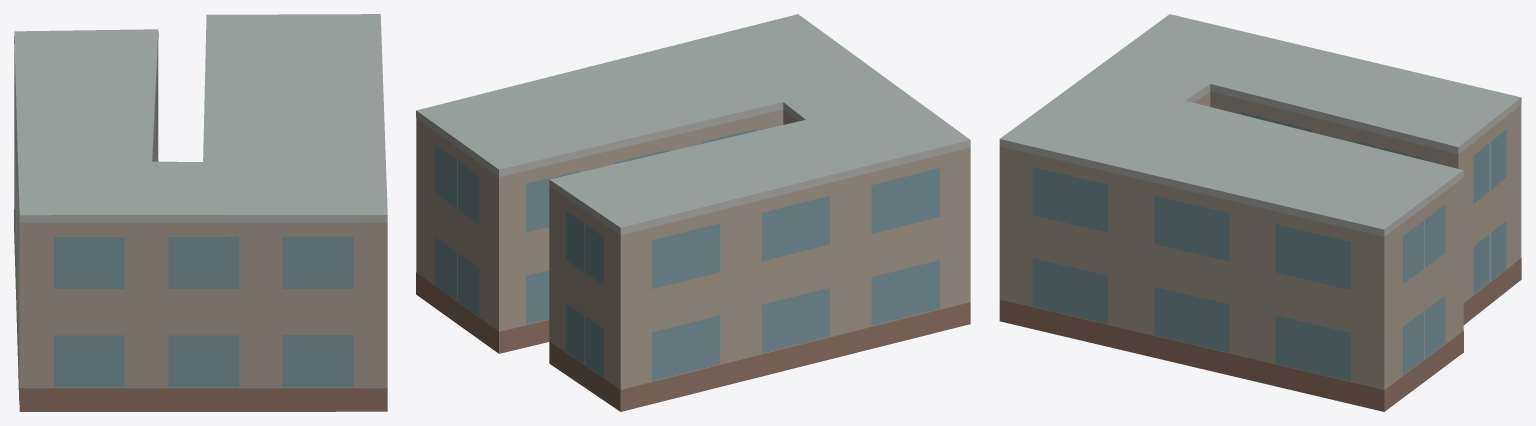
Rendered from survey-upis-32753765.glb.
3 renders of one model, left to right at view 1: azimuth 30°, elevation 25°; view 2: azimuth 150°, elevation 25°; view 3: azimuth 270°, elevation 25°, orthographic. The views are drawn at different scales.
Visible parts, largest first — view 1: survey-upis-32753765.tmp; view 2: survey-upis-32753765.tmp; view 3: survey-upis-32753765.tmp.
Boxes of the visible parts, x1,y1,x2,y2 form: survey-upis-32753765.tmp: (14, 14, 387, 411); survey-upis-32753765.tmp: (416, 14, 970, 411); survey-upis-32753765.tmp: (999, 14, 1521, 411).
Size of the model in its own units: 15.48 by 6.1 by 15.84.
